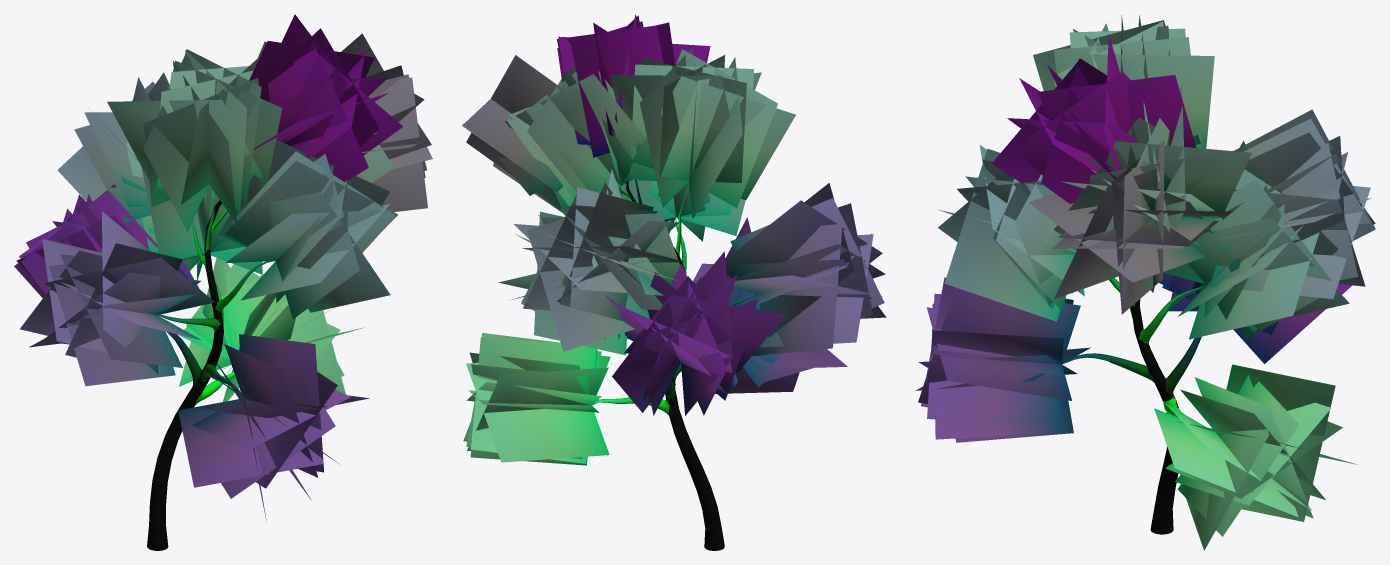
The model's file is URP_P6_Tree_3_LOD_1.fbx.
3 renders of one model, left to right at view 1: azimuth 30°, elevation 25°; view 2: azimuth 150°, elevation 25°; view 3: azimuth 270°, elevation 25°, orthographic. The views are drawn at different scales.
Visible parts, largest first — view 1: Tree_3_LOD_1; view 2: Tree_3_LOD_1; view 3: Tree_3_LOD_1.
Boxes of the visible parts, left/top/right/bottom form: Tree_3_LOD_1: left=14, top=14, right=432, bottom=550; Tree_3_LOD_1: left=461, top=14, right=886, bottom=550; Tree_3_LOD_1: left=915, top=15, right=1375, bottom=550.
Bounding box in the file's own units: 567 × 684 × 528.
